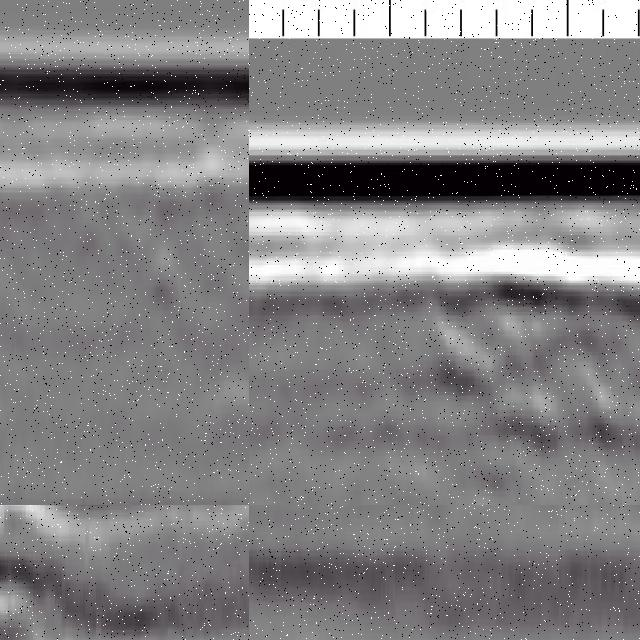loose: (445, 288, 640, 466), (1, 506, 100, 640)
